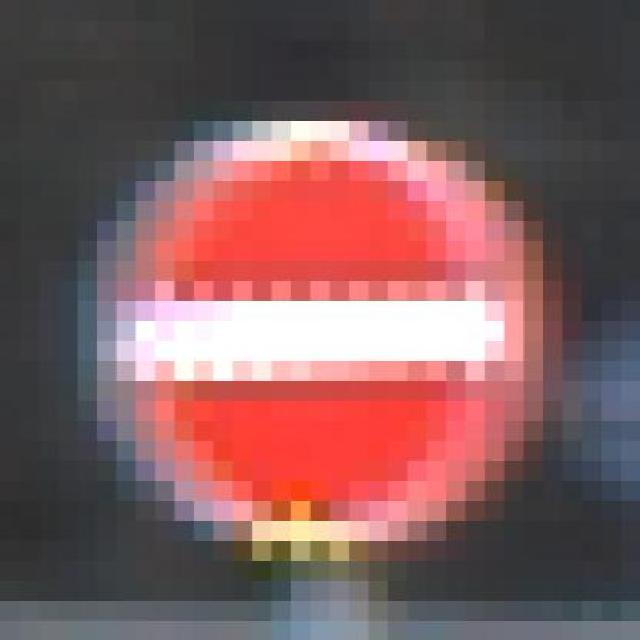No Entry: (77, 100, 601, 580)
